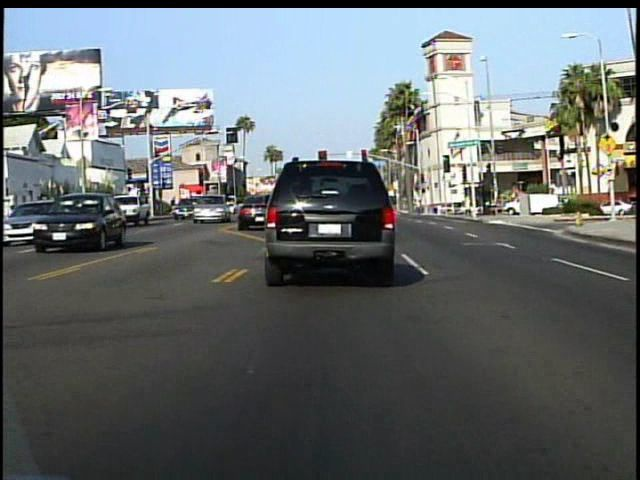person: (167, 194, 176, 221)
